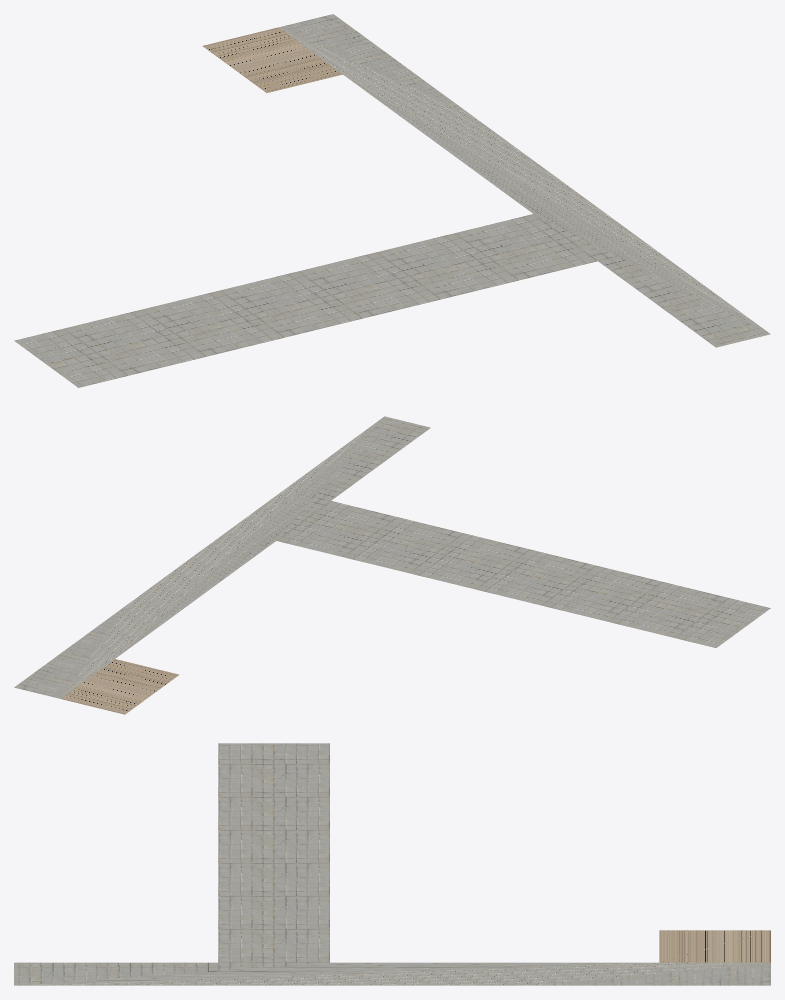
3 renders of one model, top to bottom at view 1: azimuth 30°, elevation 25°; view 2: azimuth 150°, elevation 25°; view 3: azimuth 270°, elevation 25°, orthographic. The views are drawn at different scales.
Parts seen in each view (by area): view 1: PISO DEPARTAMENTAL.001; view 2: PISO DEPARTAMENTAL.001; view 3: PISO DEPARTAMENTAL.001.
Boxes of the visible parts, <box> form: PISO DEPARTAMENTAL.001: <box>14,14,770,387</box>; PISO DEPARTAMENTAL.001: <box>14,416,770,714</box>; PISO DEPARTAMENTAL.001: <box>14,743,770,985</box>.
Bounding box in the file's own units: 3585 × 0 × 4729.
